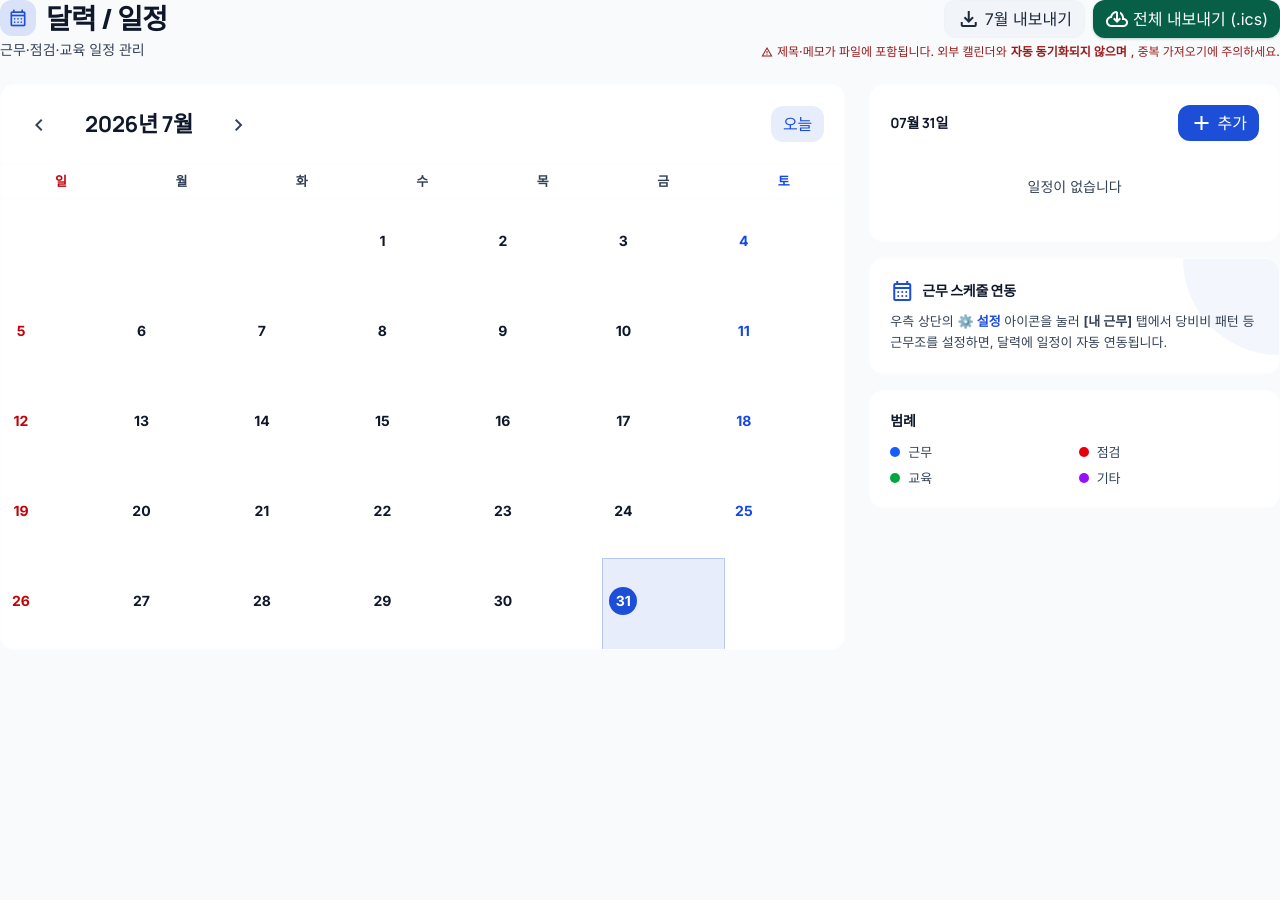
Test: Calendar › keeps the draft open and reports an error when storage is disabled
Click the button "추가" at point(1218, 123), box [1178,105,1259,141]
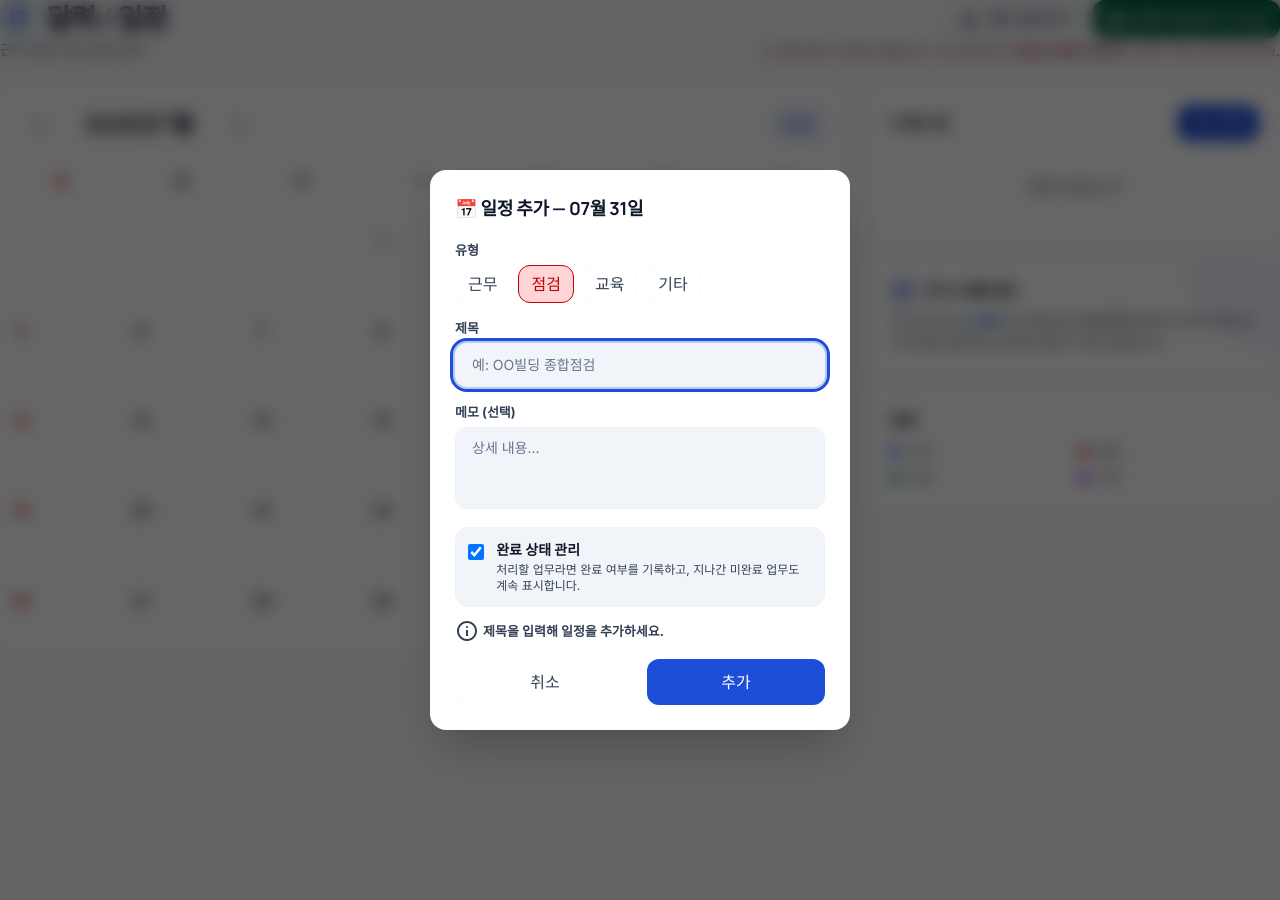
Type "저장되지 않을 일정" into the field labelled "제목" at point(640, 365), box [455,343,825,387]
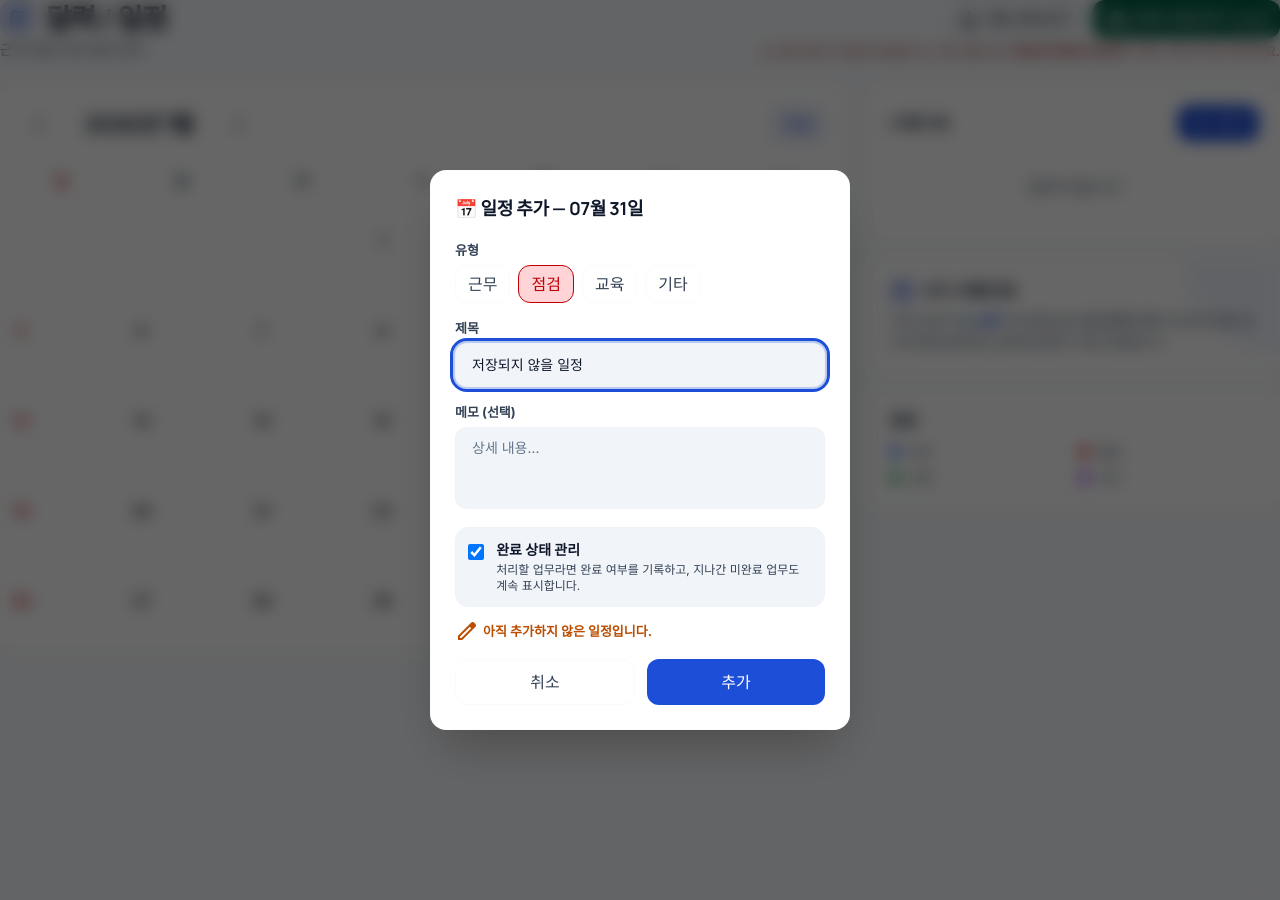
Click the button "추가" at point(736, 682), box [647,659,825,705]
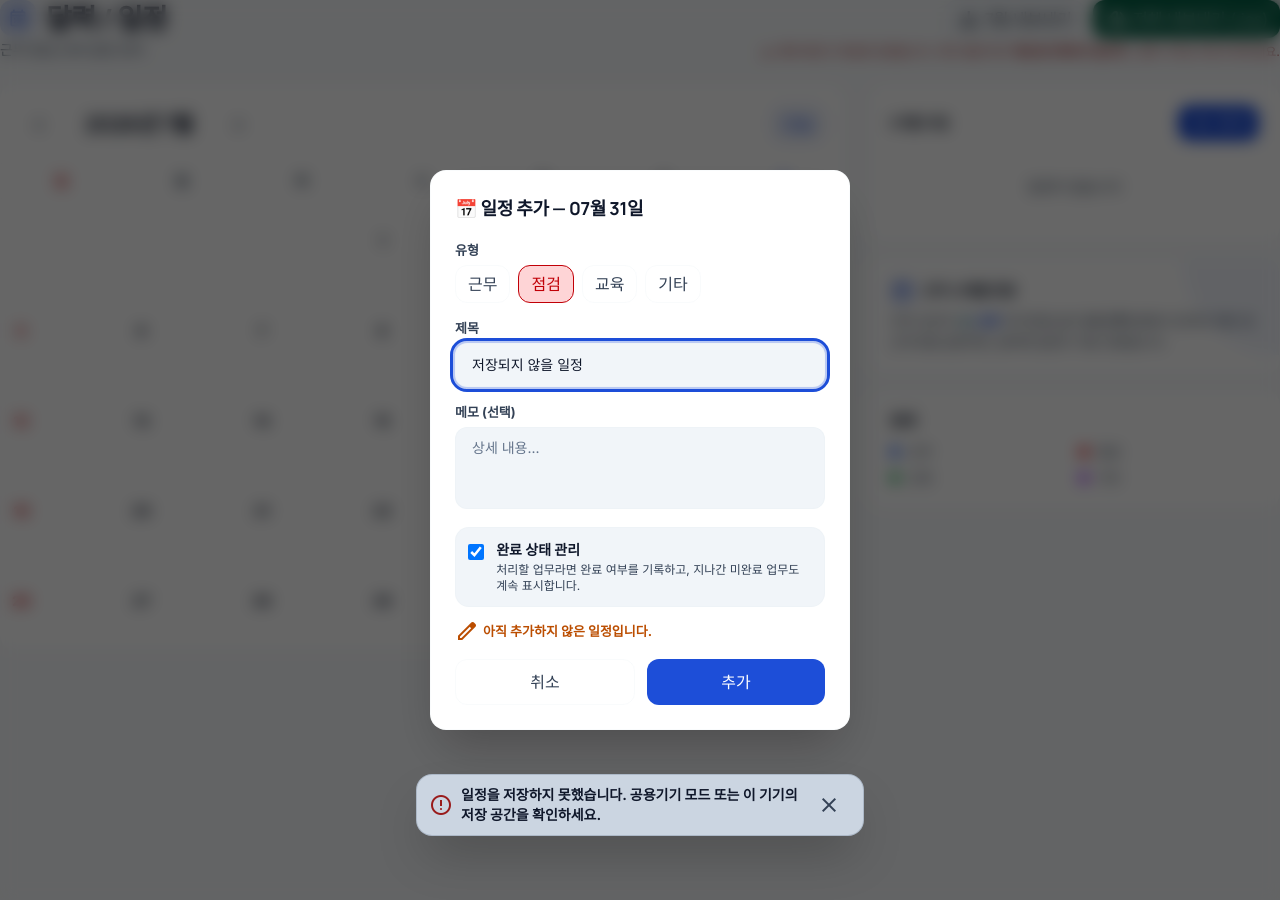
Result: the dialog is shown at [430,170,850,730]
Result: the text "일정을 저장하지 못했습니다. 공용기기 모드 또는 이 기기의 저장 공간을 확인하세요." is shown at [461,785,799,825]
